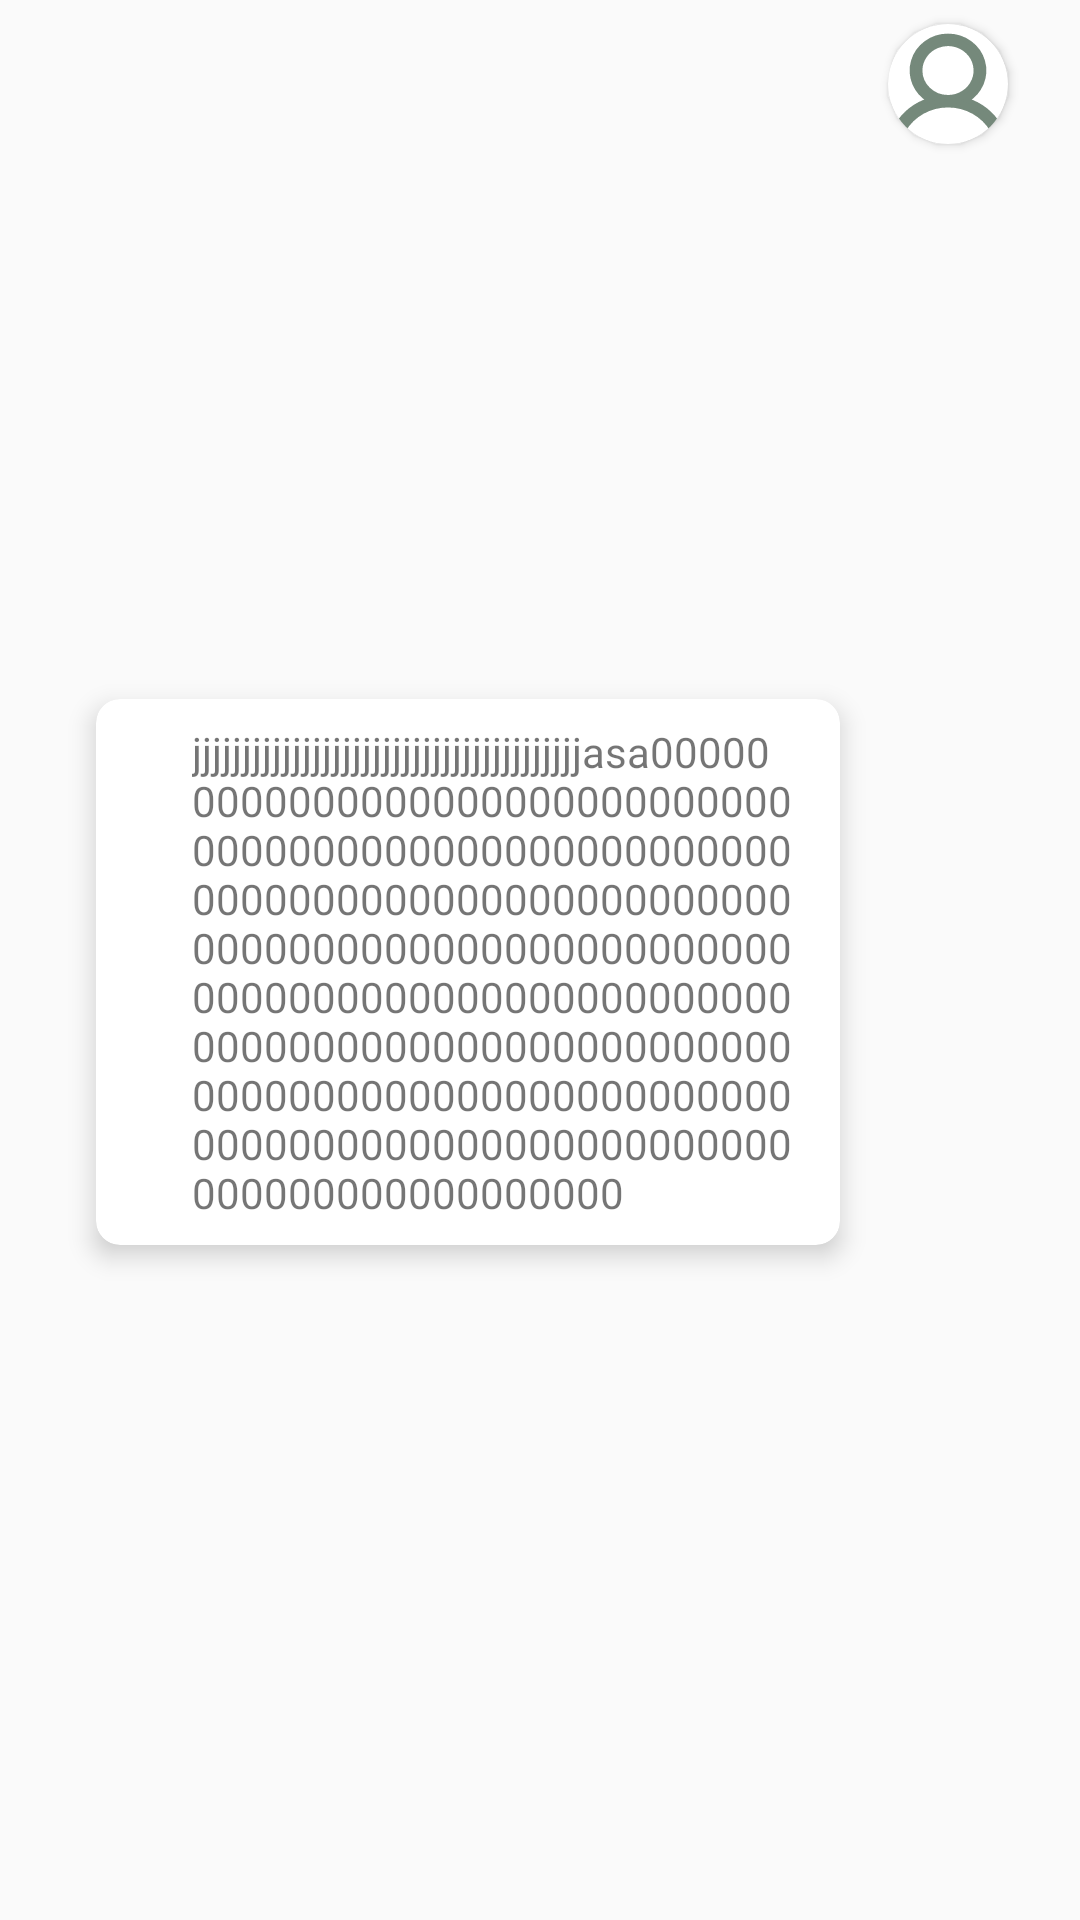

Named icons in this screenshot (1080 x 1920) and their centers, (x,y):
User image: (953,84)
